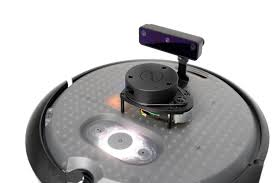turtlebot: (15, 15, 264, 183)
